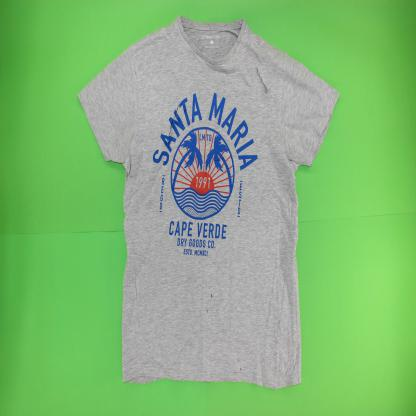hole: (167, 103, 180, 142), (254, 64, 269, 96)
